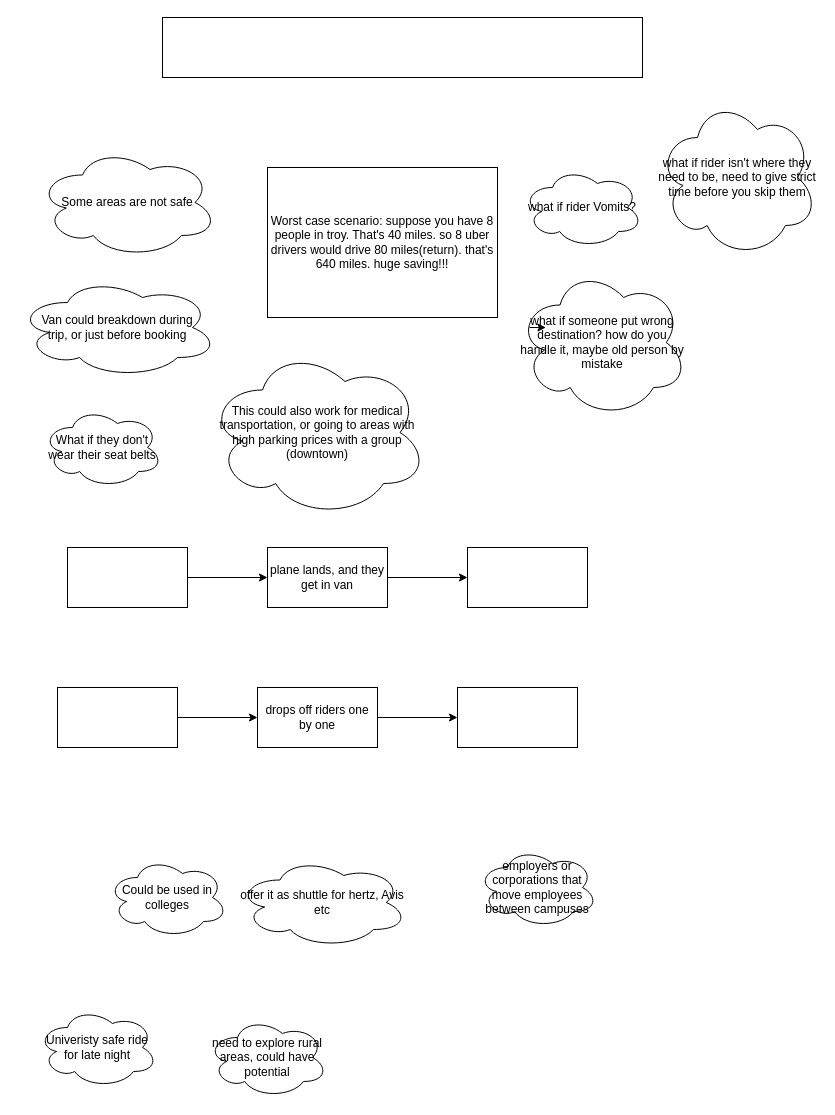
Some shapes in this 835 by 1115 pixel diagram are drawn without their labels. The centre of each missing label's shape, as x and y in pixels:
"completes trip and heads back to airport" belongs at pixel 517 717.
"Driver gets trip with route" belongs at pixel 117 717.
"hops off once destination is reached" belongs at pixel 527 577.
"plane lands at airport, 8 people take van to their destination." belongs at pixel 402 47.
"rider sets appointment according to flight" belongs at pixel 127 577.
